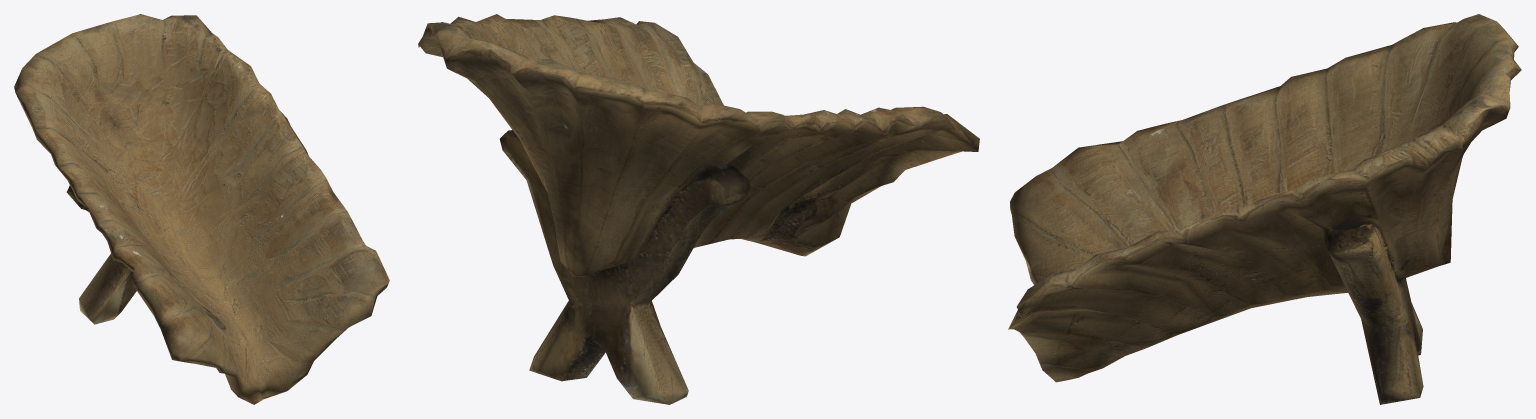
Rendered from cunaBaixRes.obj.
3 views of the same model, side by side, from view 1: azimuth 30°, elevation 25°; view 2: azimuth 150°, elevation 25°; view 3: azimuth 270°, elevation 25° (orthographic). The views are drawn at different scales.
Parts seen in each view (by area): view 1: MVFC3832a_manjedoura_LP1; view 2: MVFC3832a_manjedoura_LP1; view 3: MVFC3832a_manjedoura_LP1.
Boxes of the visible parts, bbox=[...] form: MVFC3832a_manjedoura_LP1: bbox=[14, 14, 389, 404]; MVFC3832a_manjedoura_LP1: bbox=[418, 14, 979, 404]; MVFC3832a_manjedoura_LP1: bbox=[1008, 14, 1521, 404].
Bounding box in the file's own units: 0.0709 × 0.0781 × 0.1084.
Materials: 1 (1 with a texture image).
